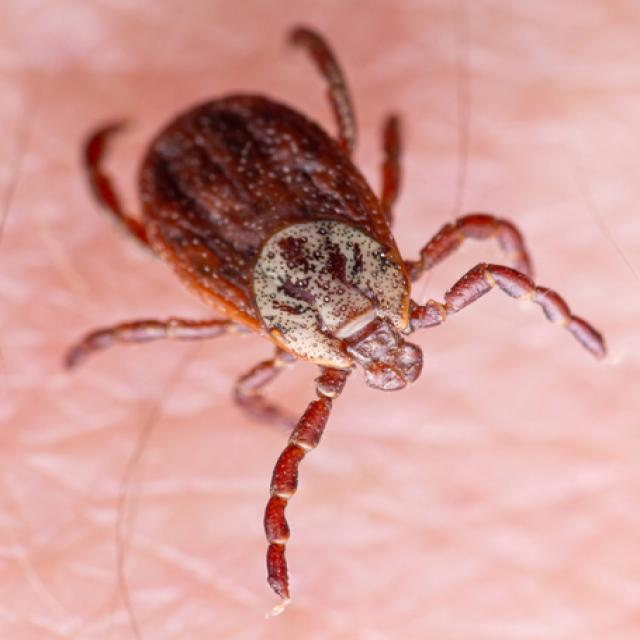Dermacentor Reticulatus-F: (62, 27, 606, 616)
